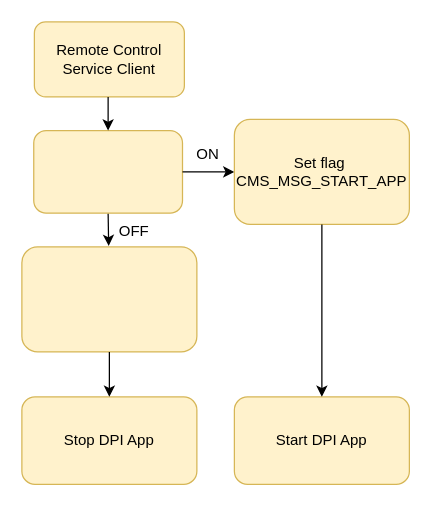
Some shapes in this 431 by 506 pixel diagram are drawn without their labels. Here are the shapes that lost their labels. From the top down, the box of each, then its label:
(32, 129, 182, 213): Send message to smd.
(21, 246, 197, 352): Set flag CMS_MSG_STOP_APP
